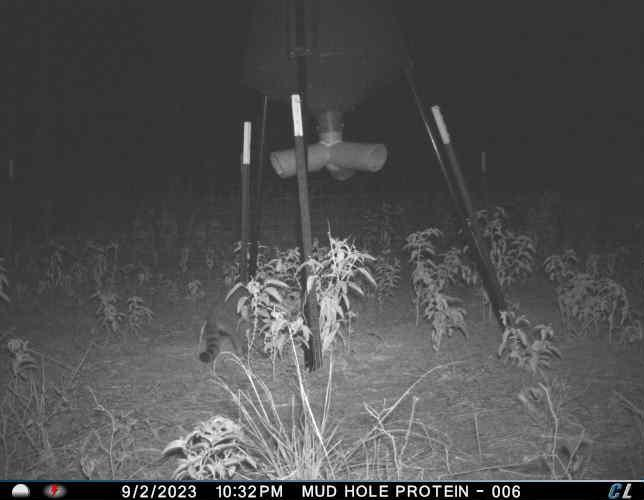Raccoon: (198, 281, 276, 363)
